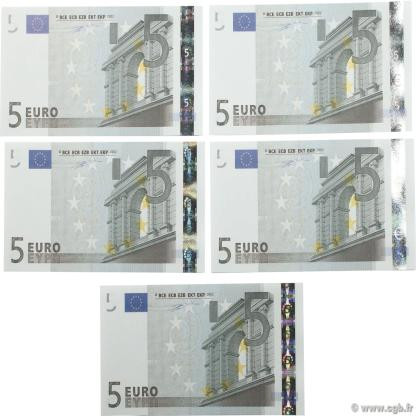euro_banknote: (208, 3, 413, 135), (212, 140, 415, 273), (100, 285, 305, 415), (4, 142, 205, 273), (1, 8, 203, 137)
